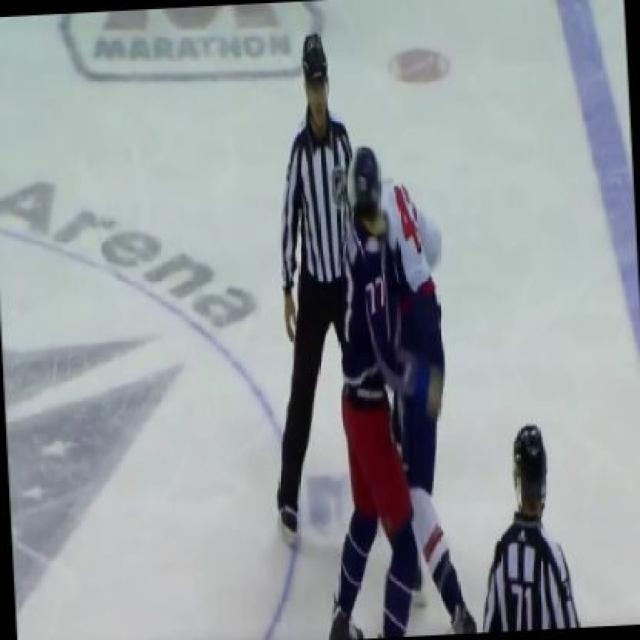fight: (317, 146, 480, 638)
non-fight: (266, 30, 360, 548), (479, 419, 595, 636)
